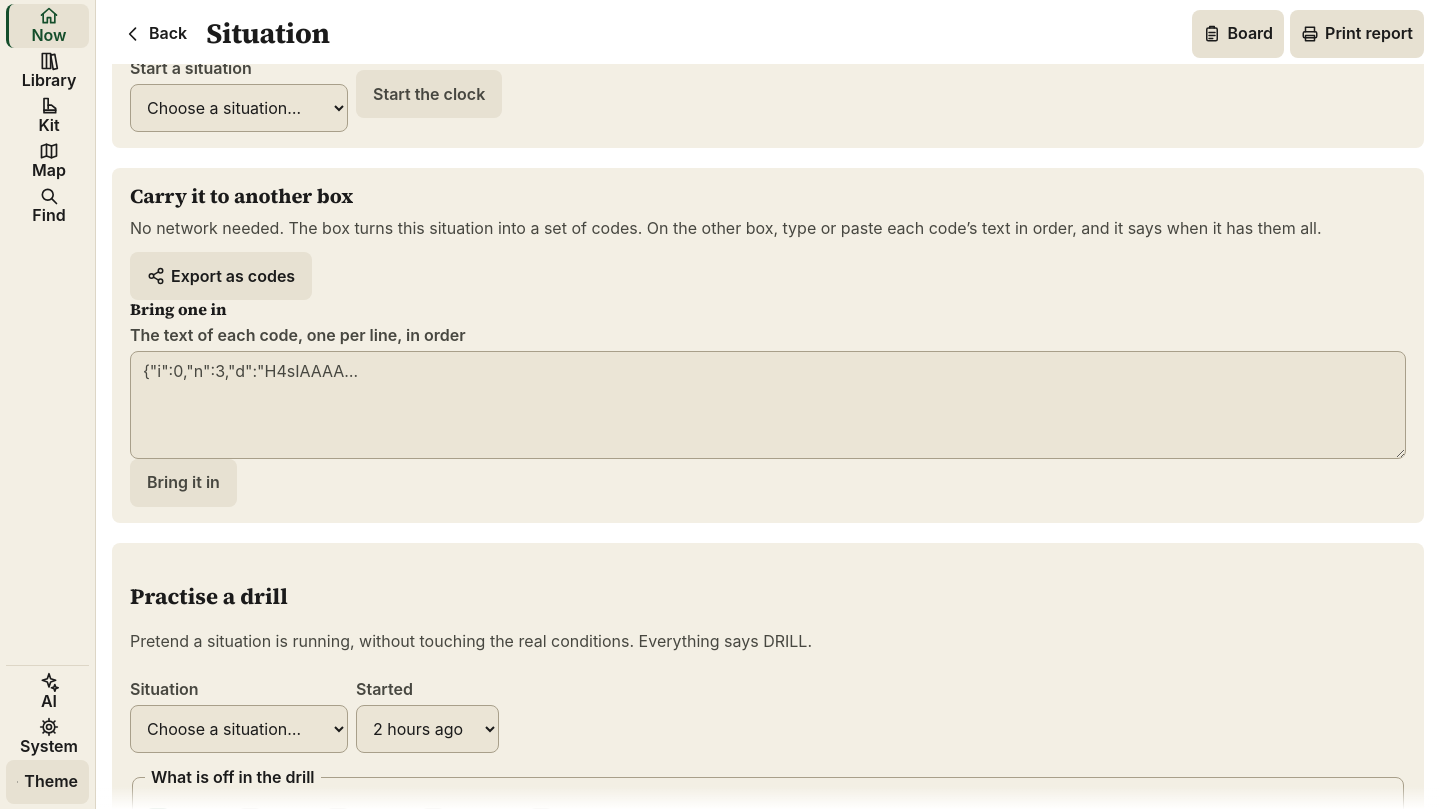
Scenario: carrying the situation to another box › says a refusal in household words, under the button that caused it
The width and height of the screenshot is (1440, 809).
(page scrolled)
Step 1. Type "nonsense" into the text box named "Situation to bring in" → (768, 405), box [130,352,1406,459]
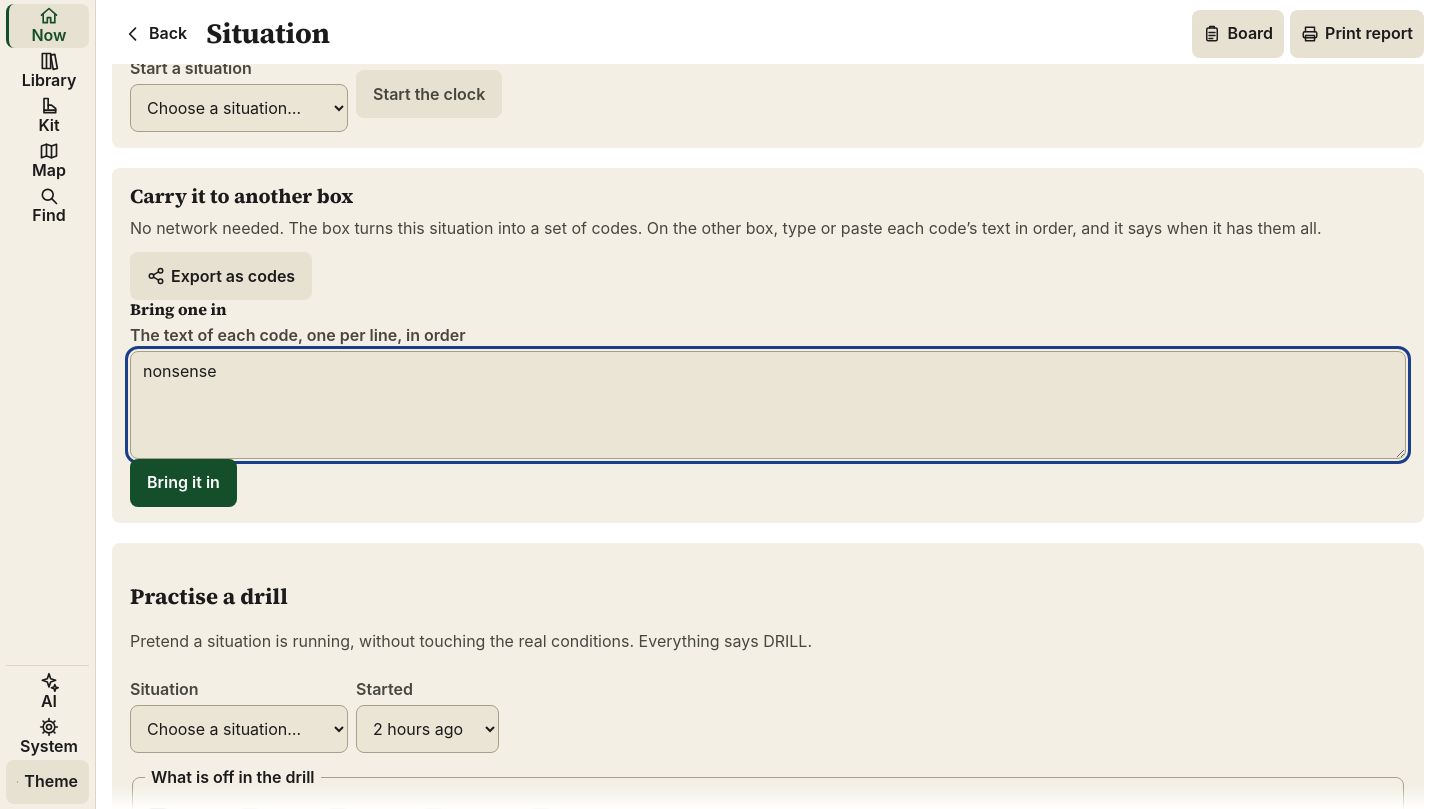
Step 2. Click the button "Bring it in" → (183, 483), box [130,459,237,507]
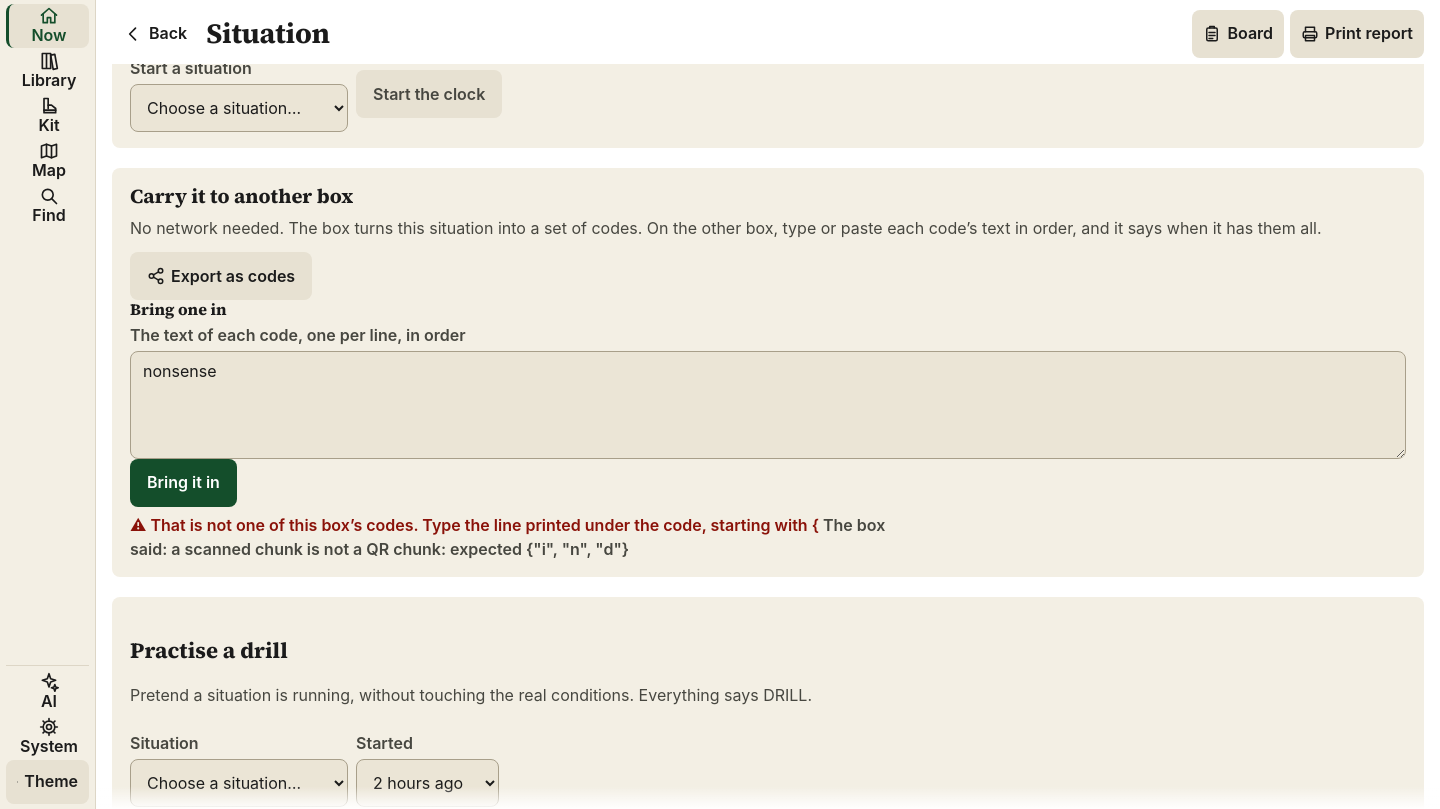
Expected: the message shows "That is not one of this box’s codes. Type the line printed under the code, starting with {", [150,515,819,535]
